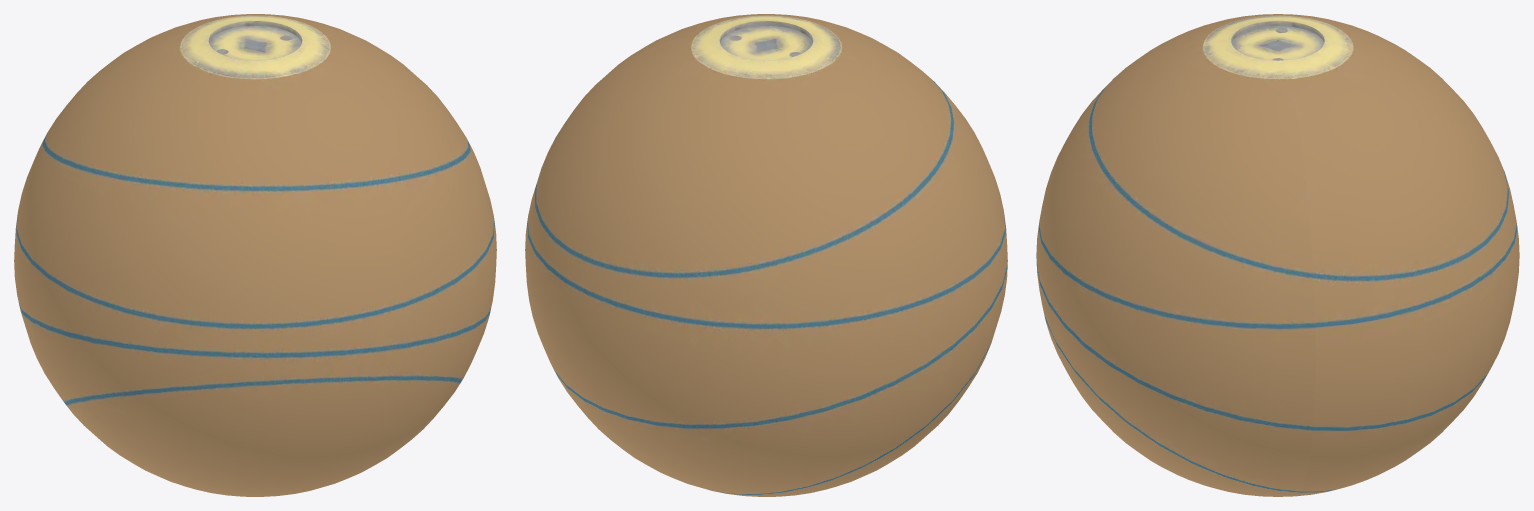
File: portal.glb
The picture shows the model from 3 angles, left to right: view 1: azimuth 30°, elevation 25°; view 2: azimuth 150°, elevation 25°; view 3: azimuth 270°, elevation 25°; orthographic projection.
Parts seen in each view (by area): view 1: defaultMaterial; view 2: defaultMaterial; view 3: defaultMaterial.
Part boxes in pixels (x1,y1,x2,y2): defaultMaterial: (14,14,496,496); defaultMaterial: (525,14,1007,496); defaultMaterial: (1036,14,1519,496).
Bounding box in the file's own units: 2 × 1.98 × 2.
1 material, 1 textured.
